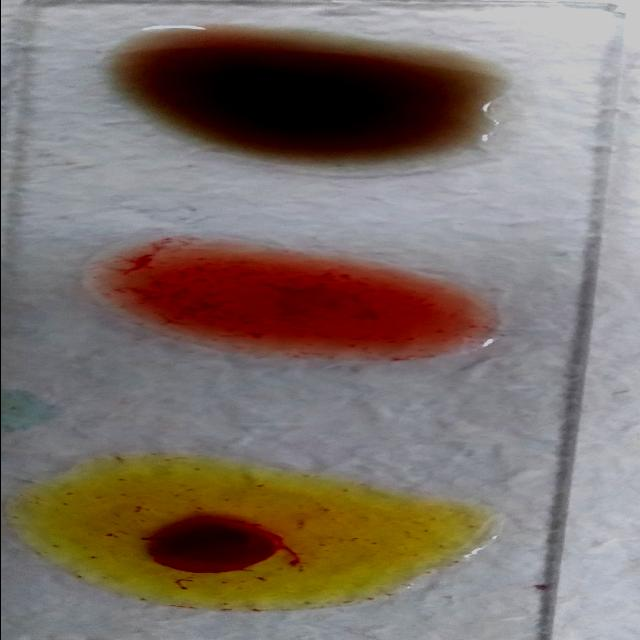B: (26, 470, 492, 606)
D: (86, 244, 502, 360)
